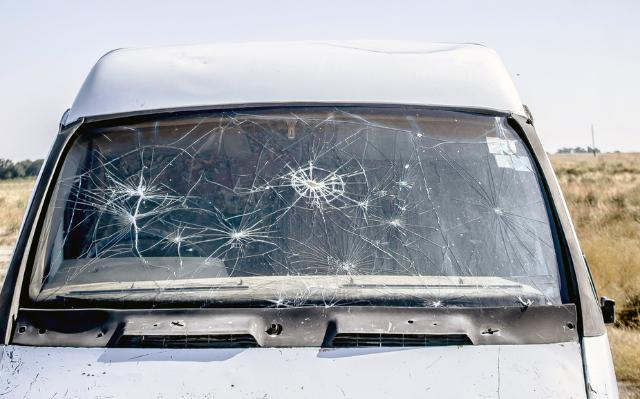Windshield: (62, 106, 567, 301)
